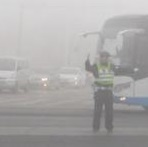person: (83, 47, 121, 134)
